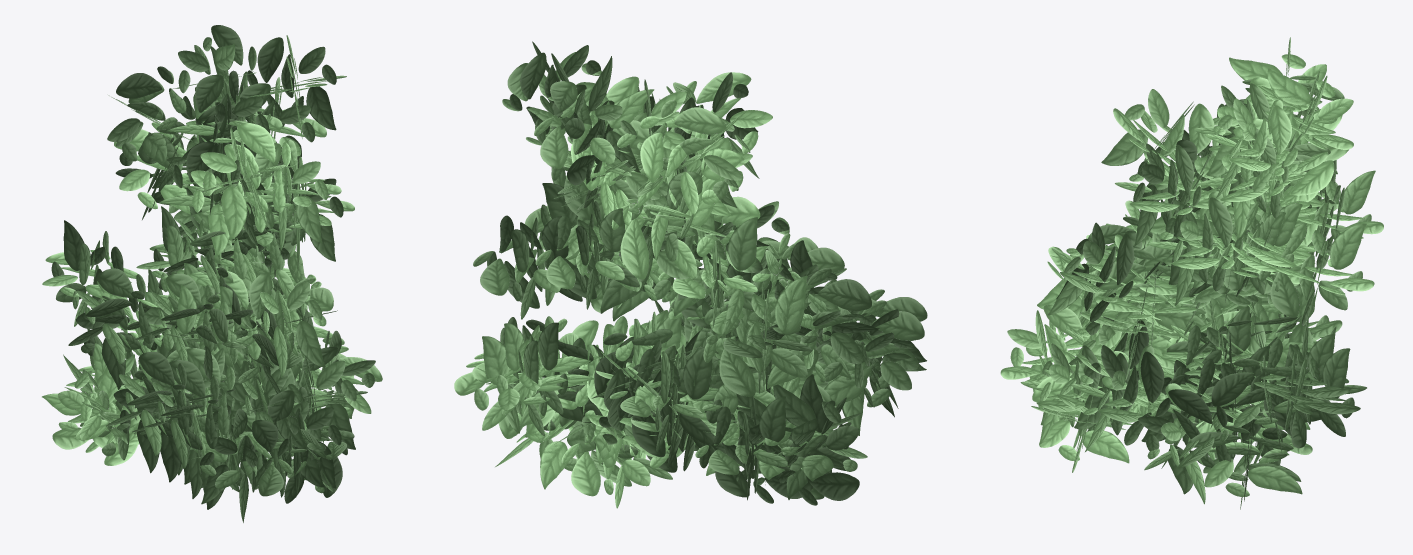
Rendered from Bush 1.fbx.
The picture shows the model from 3 angles, left to right: view 1: azimuth 30°, elevation 25°; view 2: azimuth 150°, elevation 25°; view 3: azimuth 270°, elevation 25°; orthographic projection. The views are drawn at different scales.
Visible parts, largest first — view 1: Original Leaves.029; view 2: Original Leaves.029; view 3: Original Leaves.029.
Boxes of the visible parts, left/top/right/bottom form: Original Leaves.029: left=42, top=25, right=382, bottom=522; Original Leaves.029: left=454, top=41, right=927, bottom=508; Original Leaves.029: left=1000, top=37, right=1383, bottom=509.
Bounding box in the file's own units: 145 × 172 × 142.
